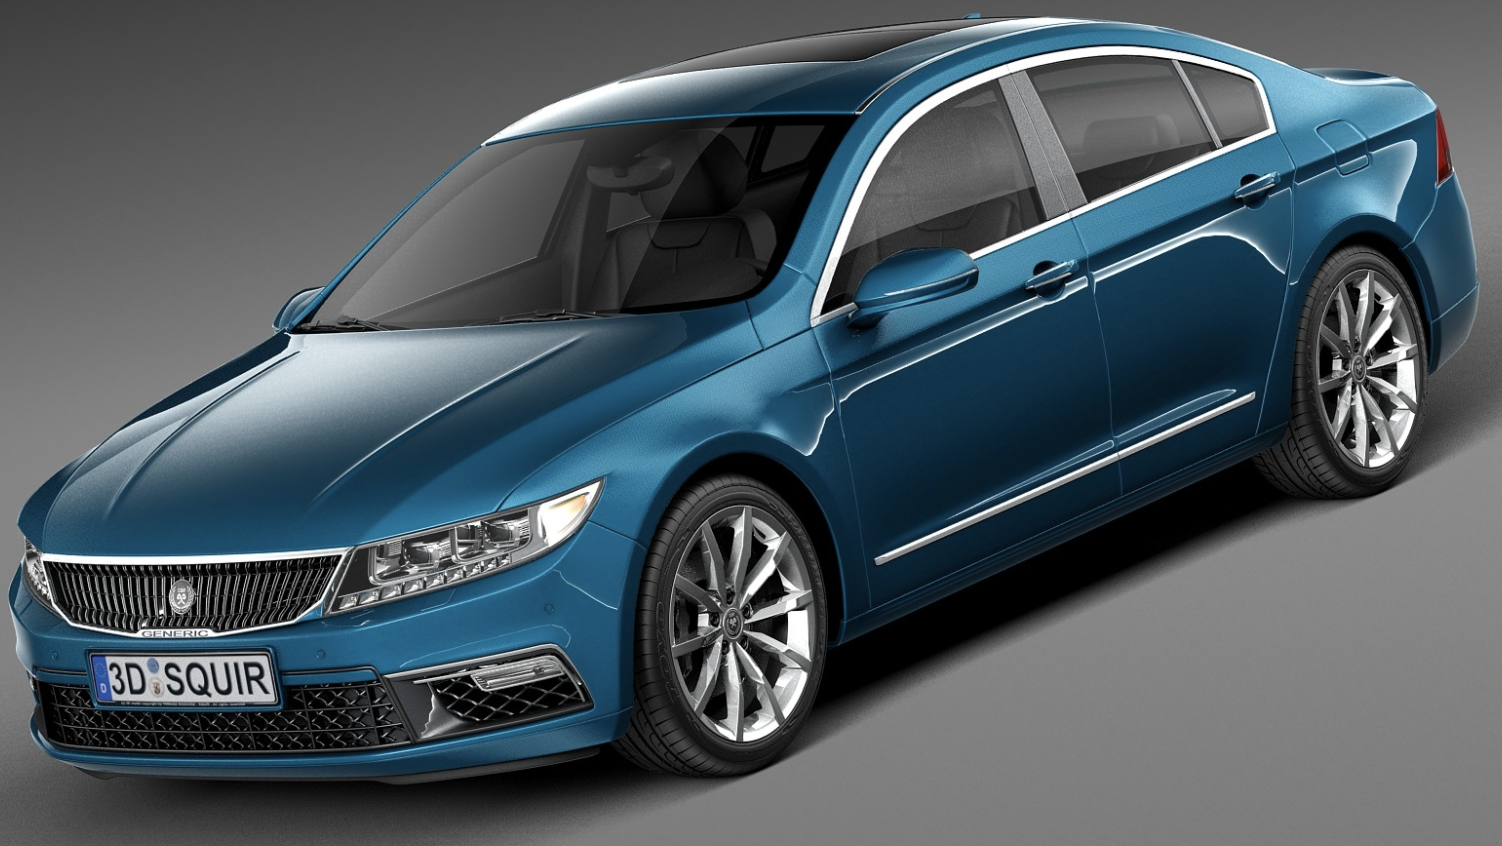hatch: (1312, 115, 1382, 181)
